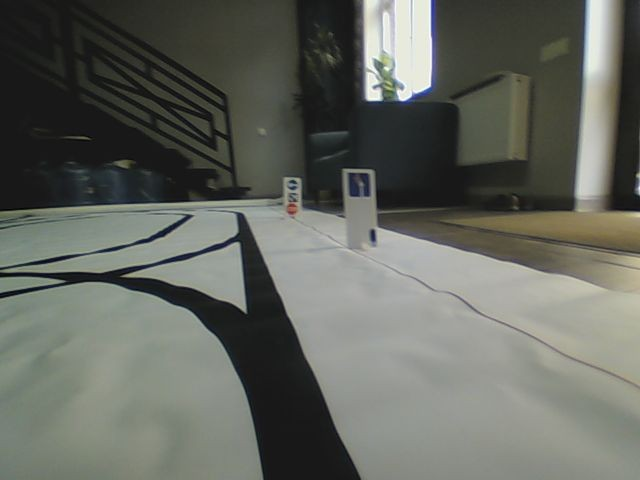priority_movement: (347, 171, 373, 199)
